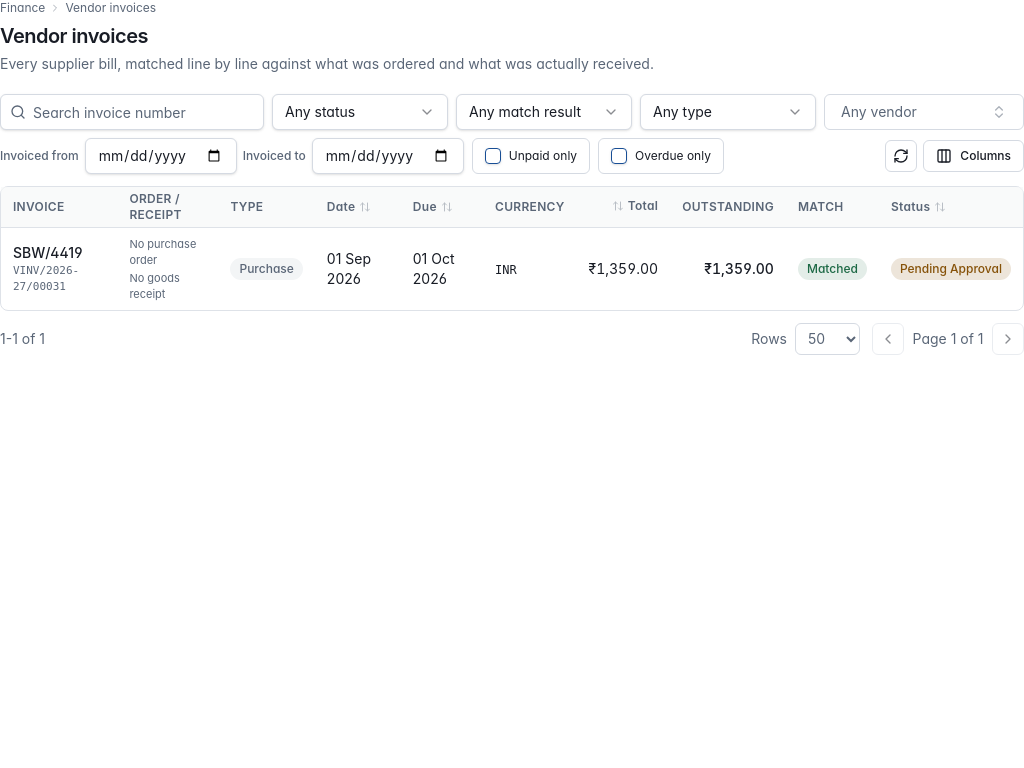
Test: approving a bill › refuses a one-word note on a clean approval rather than losing it to a silent 422
Click the button "SBW/4419" at (48, 252), box x1=13 y1=242 x2=82 y2=262
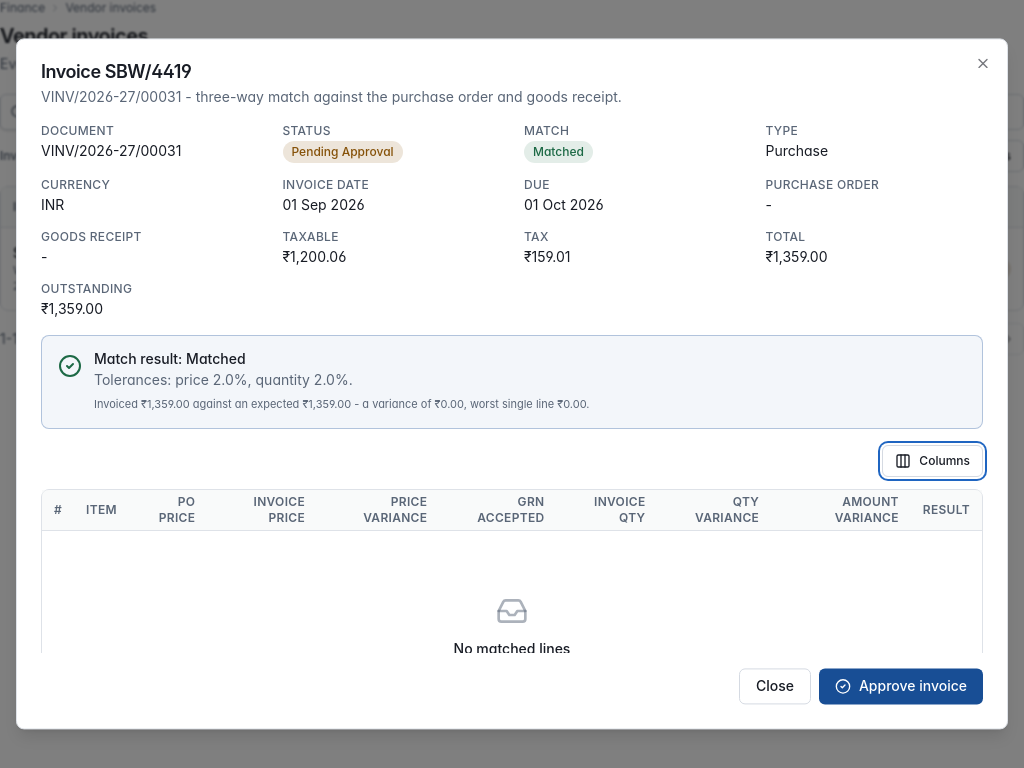
Click the button "Approve invoice" at (901, 687), box x1=819 y1=669 x2=983 y2=705
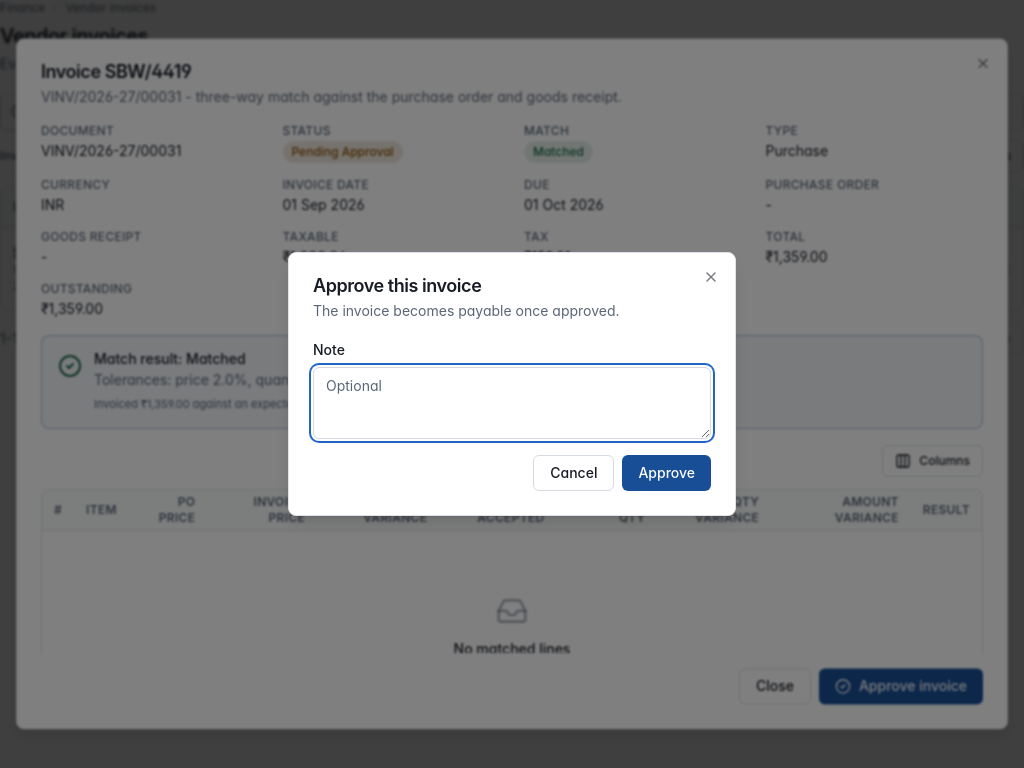
Type "ok" into the text box labelled "Note" at (512, 403), box x1=313 y1=367 x2=711 y2=439
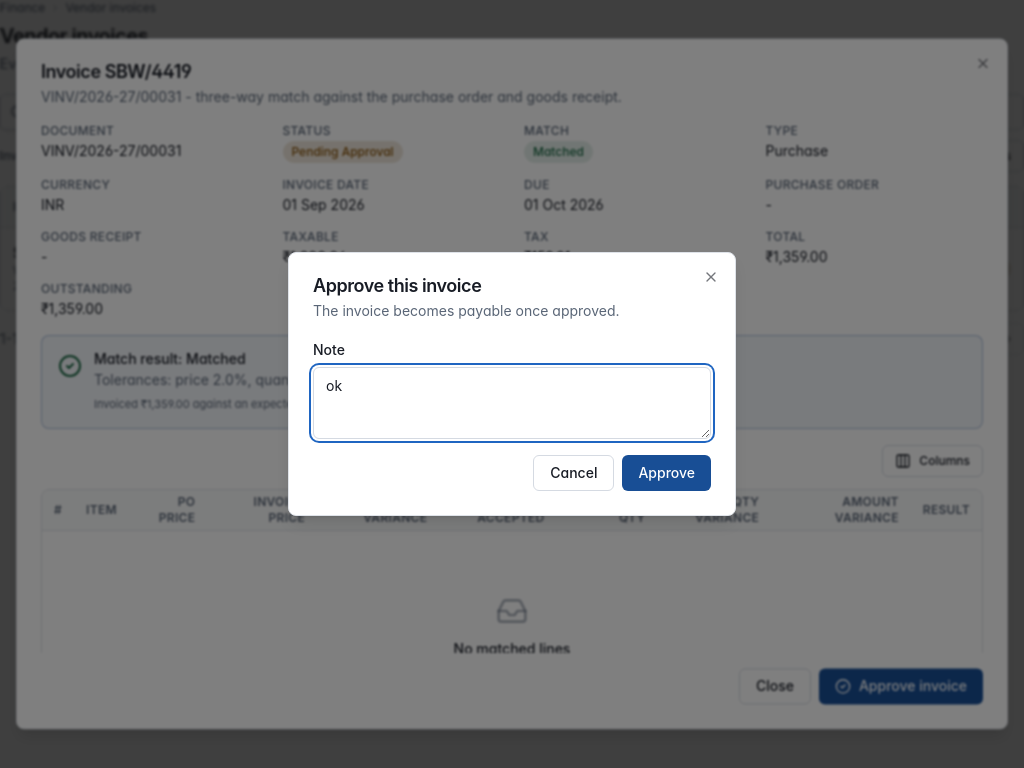
Click the button "Approve" at (667, 473), box x1=622 y1=455 x2=711 y2=491
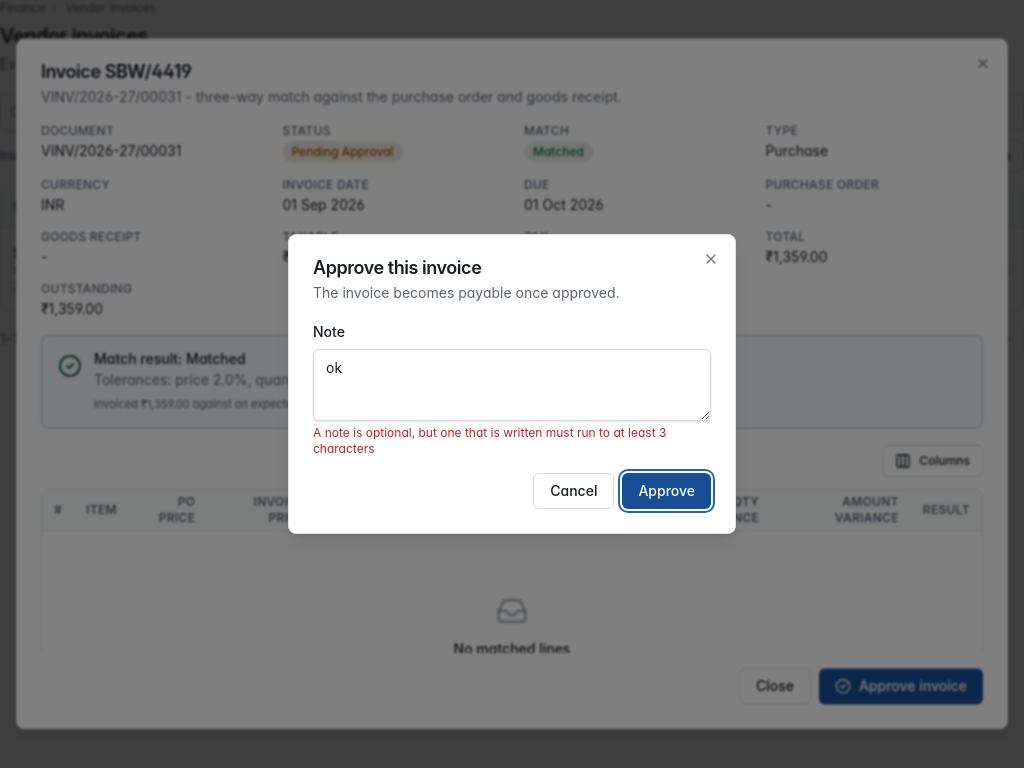
Check: the message reads "A note is optional, but one that is written must run to at least 3 characters", box x1=313 y1=425 x2=666 y2=456
